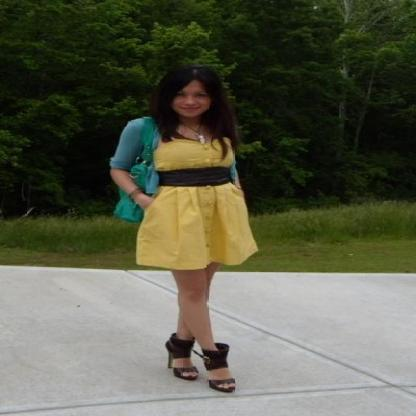bag: (113, 163, 159, 220)
jacket: (109, 116, 161, 172)
shoe: (165, 333, 234, 392)
skirt: (136, 138, 257, 269)
